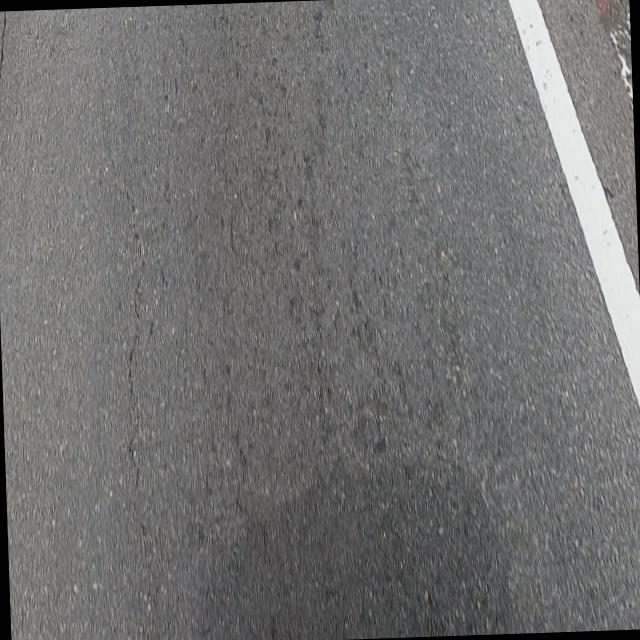Retak-Memanjang: (120, 185, 146, 401), (0, 11, 9, 93)
